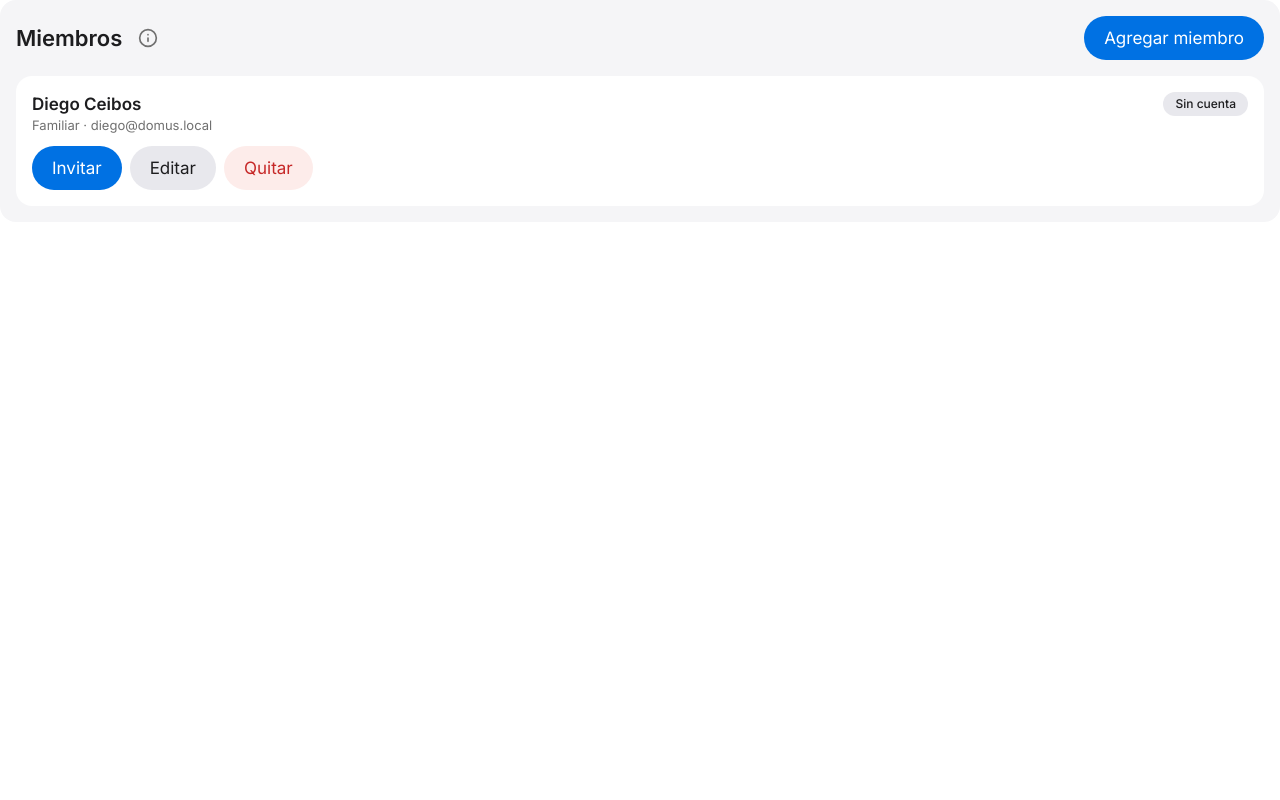
Test: MemberSection (holder) › removes a person from the household only after confirming the effect
The image size is (1280, 800).
Click the button with aria-label "Quitar a Diego Ceibos del hogar" at (268, 168), box [224,146,313,190]
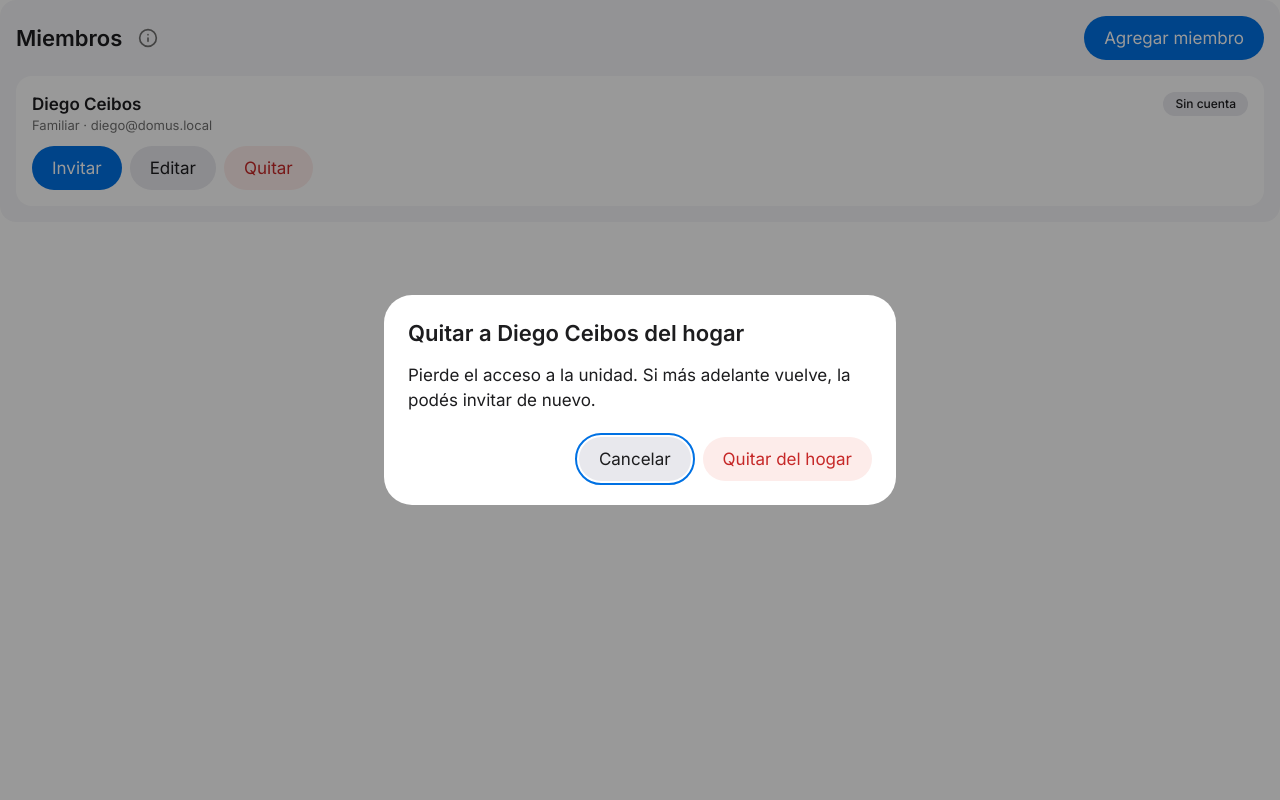
Expected: the text "Pierde el acceso a la unidad" is shown, [408,365,851,410]
Click the button "Quitar del hogar" at (787, 459), box [703,437,872,481]
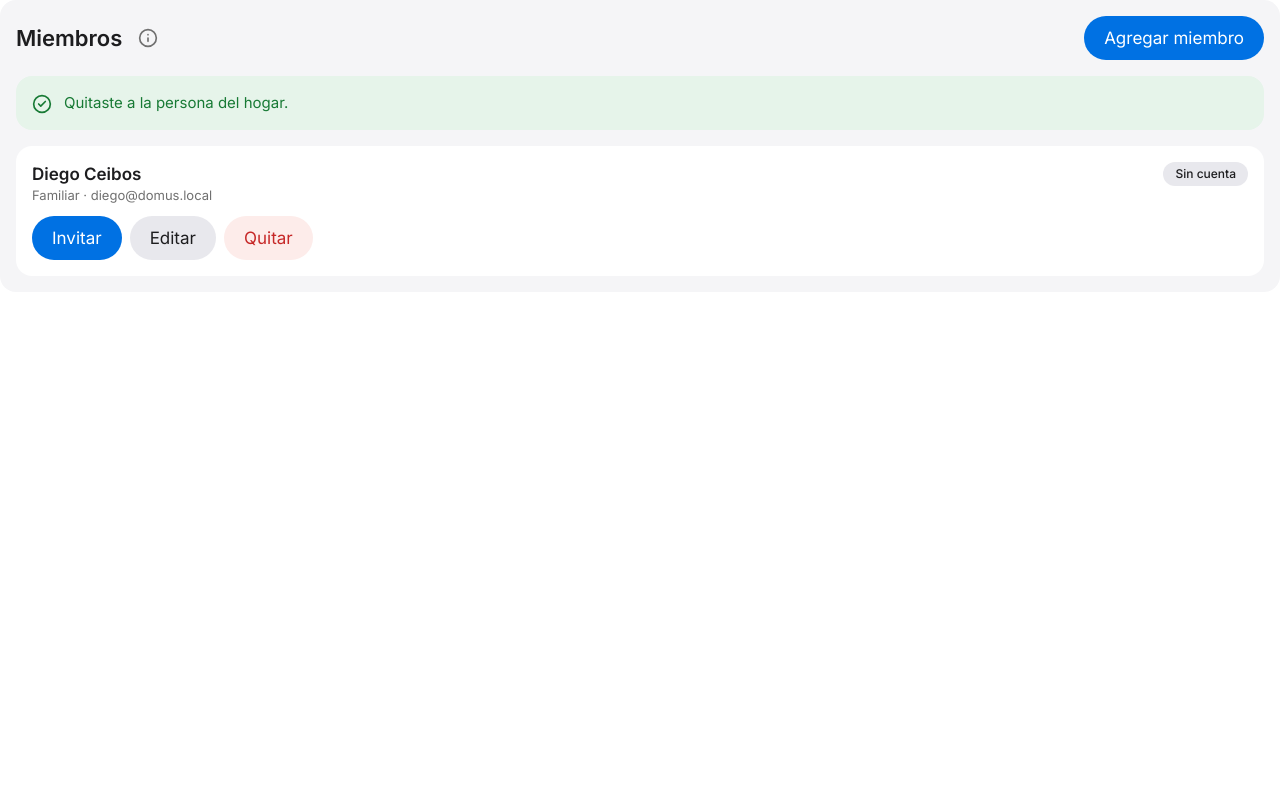
Expected: the text "Quitaste a la persona del hogar." is shown, [64,92,288,114]
